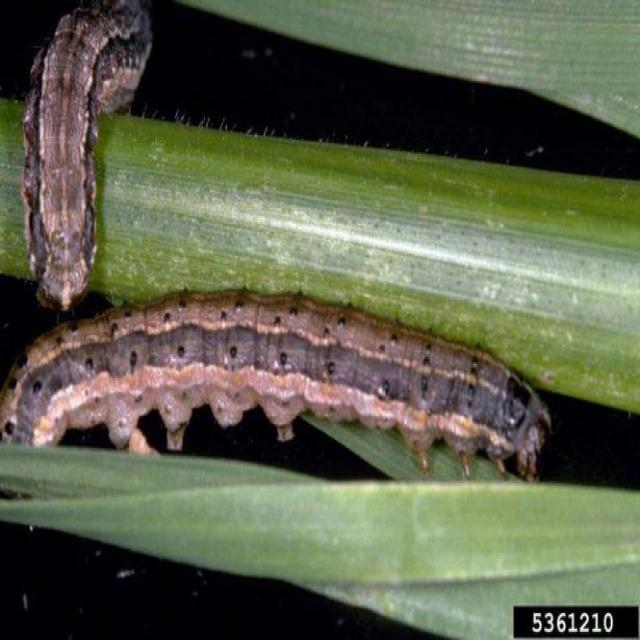armyworm: (3, 279, 555, 506), (11, 1, 155, 323)
